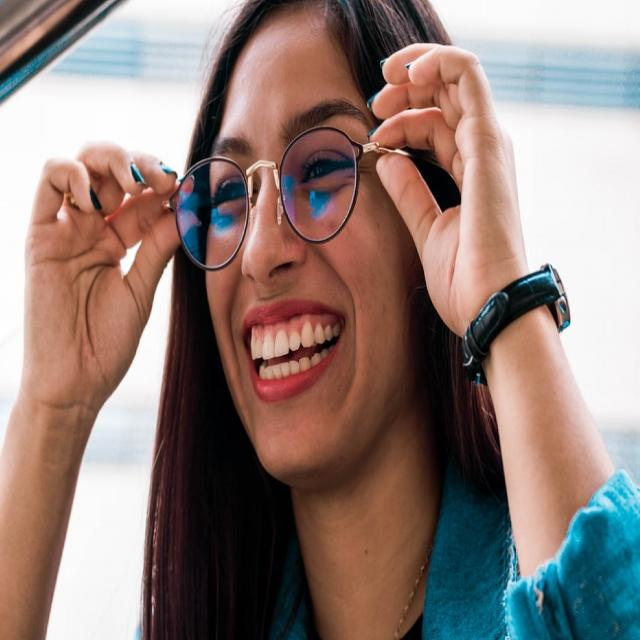Glasses: (161, 120, 407, 275)
